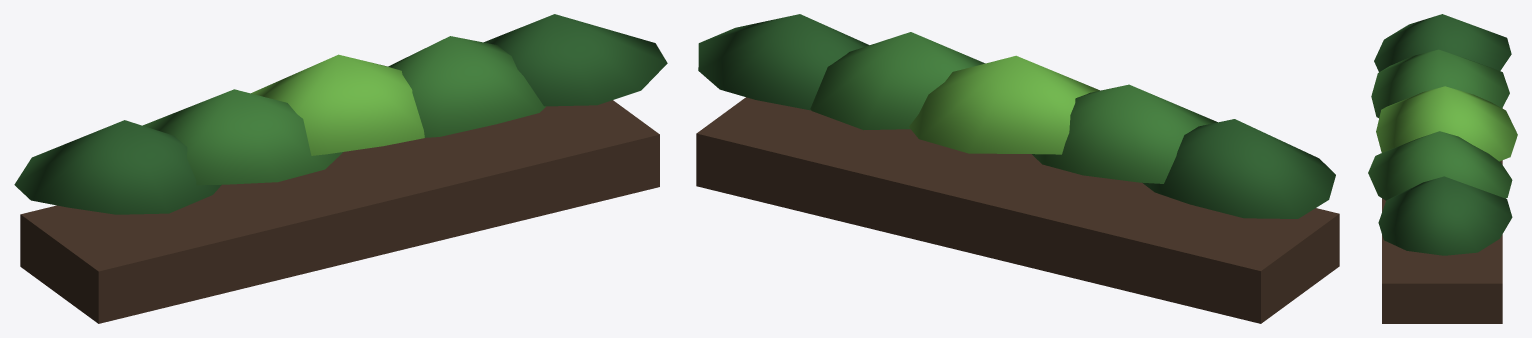
File: tea_bush_row_lod.glb
The picture shows the model from 3 angles, left to right: view 1: azimuth 30°, elevation 25°; view 2: azimuth 150°, elevation 25°; view 3: azimuth 270°, elevation 25°; orthographic projection. The views are drawn at different scales.
Visible parts, largest first — view 1: terrace_root_skirt, tea_hedge_lobe_0, tea_hedge_lobe_1, tea_hedge_lobe_2, tea_hedge_lobe_4, tea_hedge_lobe_3; view 2: terrace_root_skirt, tea_hedge_lobe_2, tea_hedge_lobe_0, tea_hedge_lobe_1, tea_hedge_lobe_4, tea_hedge_lobe_3; view 3: terrace_root_skirt, tea_hedge_lobe_4, tea_hedge_lobe_2, tea_hedge_lobe_3, tea_hedge_lobe_1, tea_hedge_lobe_0.
Part boxes in pixels (bbox=[...]): terrace_root_skirt: bbox=[20, 100, 659, 323]; tea_hedge_lobe_0: bbox=[14, 120, 221, 214]; tea_hedge_lobe_1: bbox=[143, 89, 342, 185]; tea_hedge_lobe_2: bbox=[251, 54, 424, 155]; tea_hedge_lobe_4: bbox=[484, 14, 667, 106]; tea_hedge_lobe_3: bbox=[388, 36, 545, 137]; terrace_root_skirt: bbox=[696, 97, 1339, 323]; tea_hedge_lobe_2: bbox=[909, 55, 1099, 154]; tea_hedge_lobe_0: bbox=[1142, 119, 1335, 218]; tea_hedge_lobe_1: bbox=[1032, 84, 1217, 183]; tea_hedge_lobe_4: bbox=[698, 14, 869, 110]; tea_hedge_lobe_3: bbox=[810, 32, 985, 130]; terrace_root_skirt: bbox=[1382, 108, 1502, 323]; tea_hedge_lobe_4: bbox=[1378, 176, 1512, 255]; tea_hedge_lobe_2: bbox=[1376, 86, 1517, 161]; tea_hedge_lobe_3: bbox=[1368, 131, 1512, 200]; tea_hedge_lobe_1: bbox=[1371, 49, 1509, 118]; tea_hedge_lobe_0: bbox=[1374, 14, 1511, 71].
Bounding box in the file's own units: 6.24 × 1.63 × 1.68.
